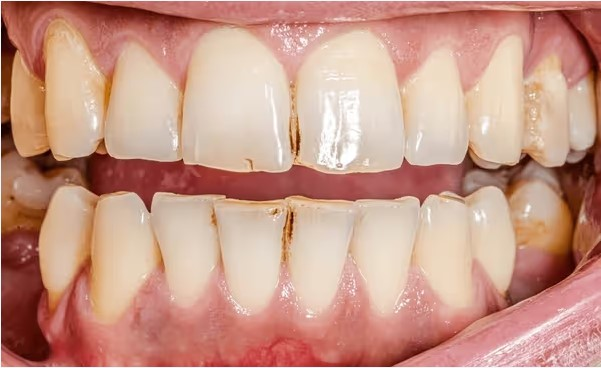LL1BC_healthy: (470, 191, 518, 293)
LL2BC_decay: (516, 180, 574, 249)
LLCI_healthy: (288, 193, 354, 316)
LLC_healthy: (419, 193, 476, 303)
LLLI_healthy: (355, 198, 417, 310)
LR1BC_healthy: (44, 186, 92, 281)
LRCI_healthy: (215, 201, 284, 313)
LRC_healthy: (93, 189, 158, 309)
LRLI_healthy: (150, 193, 218, 311)
UL1BC_decay: (524, 61, 572, 170)
UL2BC_healthy: (572, 75, 598, 163)
ULCI_healthy: (297, 26, 404, 171)
ULC_healthy: (468, 35, 525, 168)
ULLI_healthy: (404, 46, 472, 166)
UR1BC_healthy: (8, 49, 52, 160)
URCI_healthy: (180, 22, 293, 175)
URC_healthy: (38, 20, 106, 164)
URLI_healthy: (104, 37, 181, 164)
